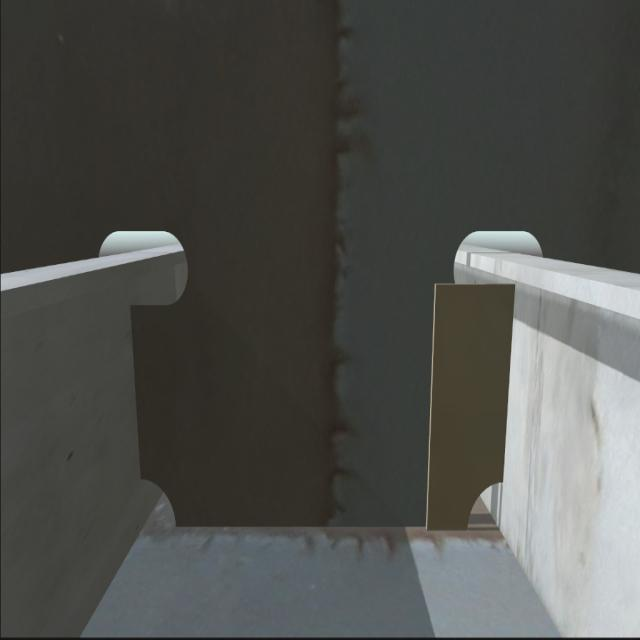fillet_hole: (469, 482, 504, 538), (140, 476, 175, 524)
fillet_yong_jeop_jang: (166, 514, 474, 538)
longi_yong_jeop_jang: (124, 303, 155, 485), (499, 277, 514, 489)
plate_CP01: (427, 272, 507, 532)
